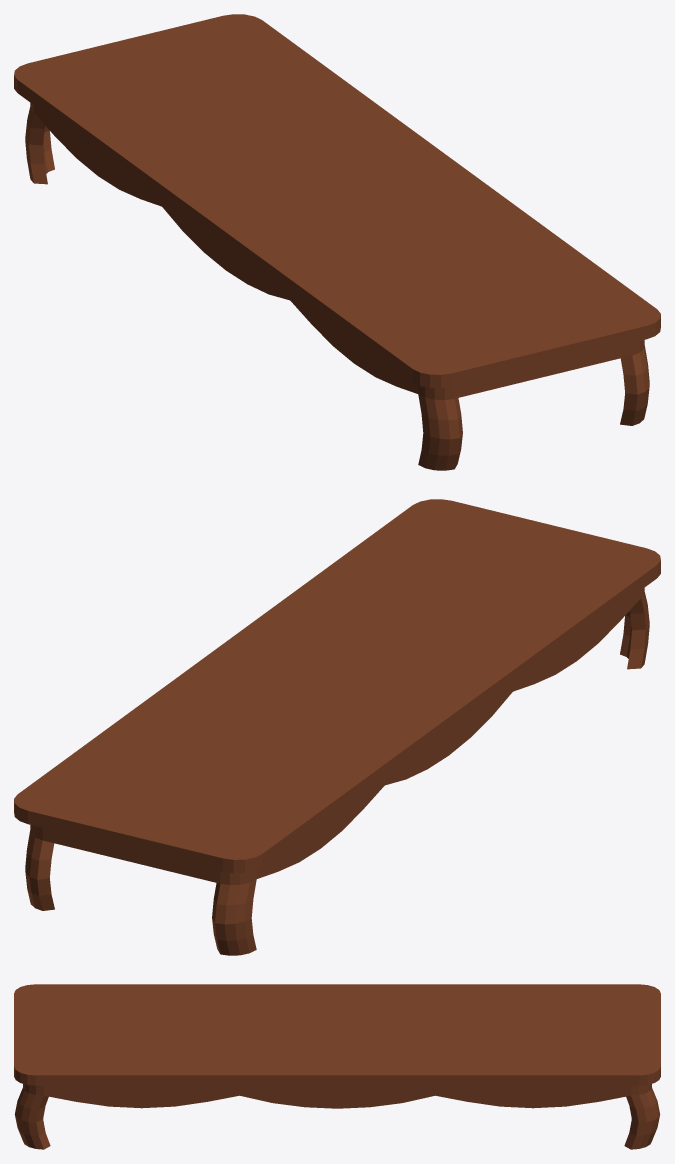
The model's file is MESA DE CENTRO.fbx.
3 views of the same model, one above another, from view 1: azimuth 30°, elevation 25°; view 2: azimuth 150°, elevation 25°; view 3: azimuth 270°, elevation 25° (orthographic). The views are drawn at different scales.
Visible parts, largest first — view 1: Cube; view 2: Cube; view 3: Cube.
Part boxes in pixels (x1,y1,x2,y2): Cube: (14,14,660,470); Cube: (14,499,660,955); Cube: (14,984,660,1149).
Bounding box in the file's own units: 200 × 80.05 × 600.
